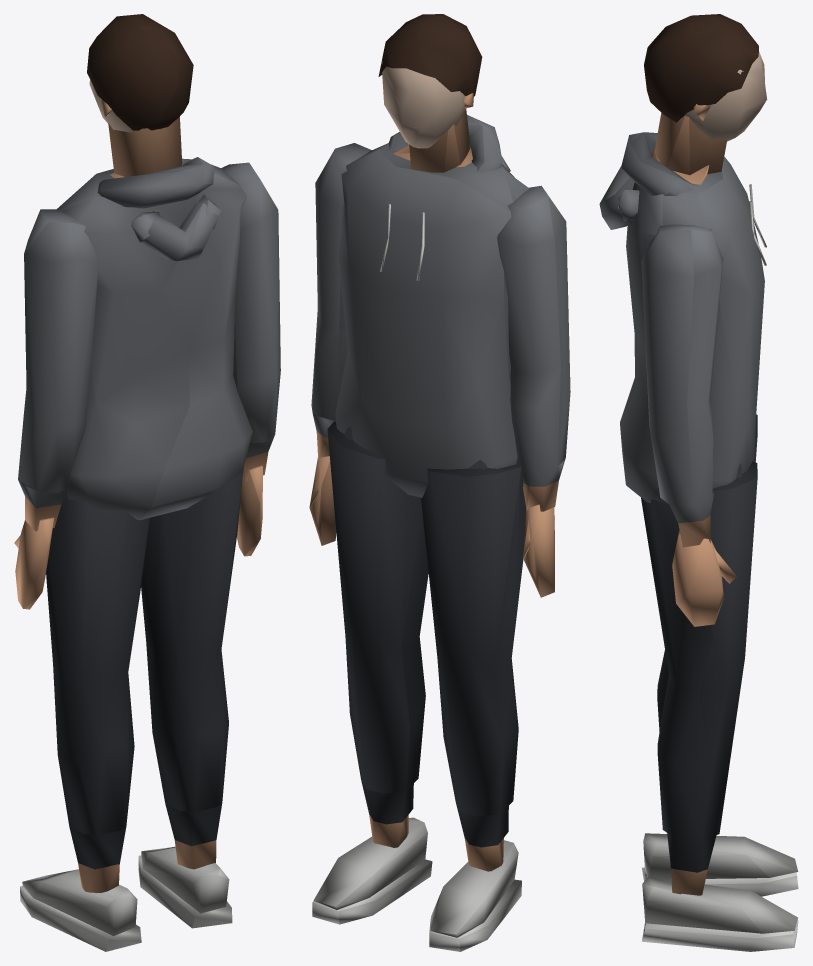
Rendered from crowd_hoodie_lod0.glb.
3 renders of one model, left to right at view 1: azimuth 30°, elevation 25°; view 2: azimuth 150°, elevation 25°; view 3: azimuth 270°, elevation 25°, orthographic.
Visible parts, largest first — view 1: crowd_hoodie_lod0; view 2: crowd_hoodie_lod0; view 3: crowd_hoodie_lod0.
Part boxes in pixels (x1,y1,x2,y2): crowd_hoodie_lod0: [14, 14, 280, 951]; crowd_hoodie_lod0: [309, 14, 570, 951]; crowd_hoodie_lod0: [599, 14, 798, 951].
Bounding box in the file's own units: 0.5288 × 1.8 × 0.3632.
